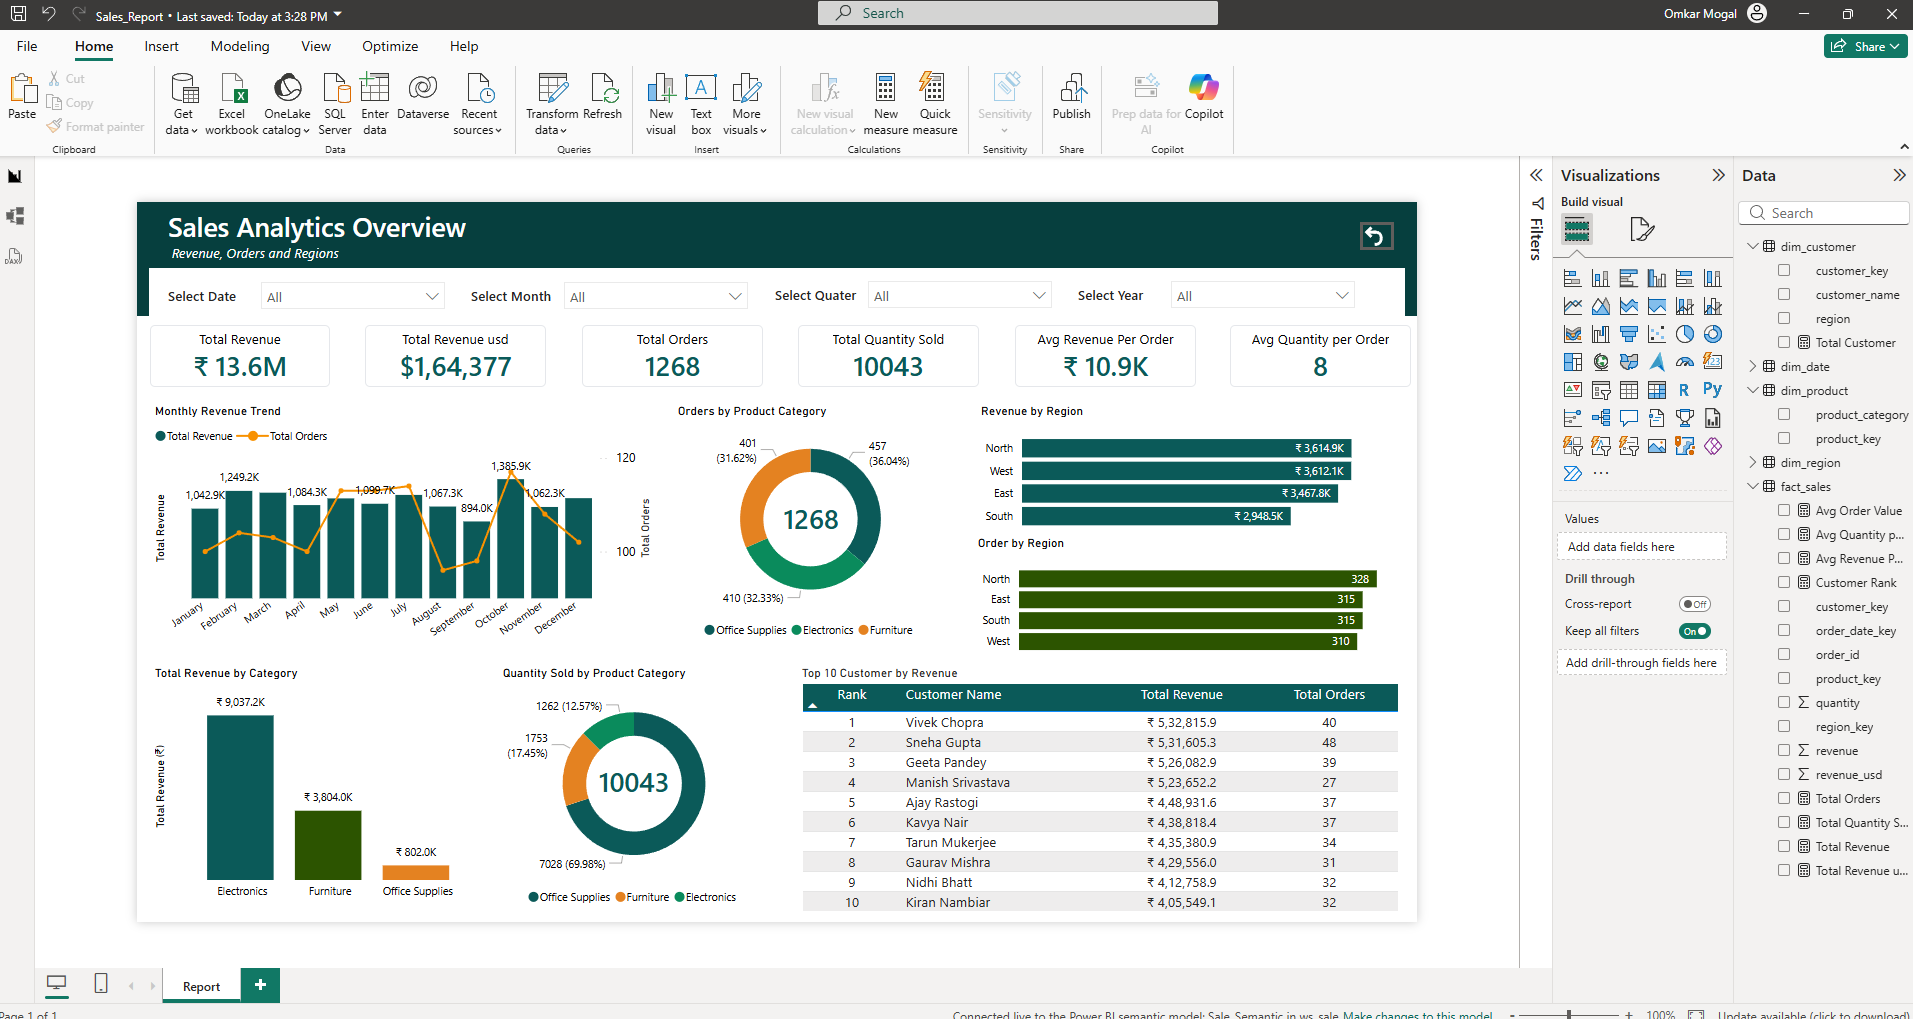

The page's visual inventory and layout, read from the dashboard file:
{"tool":"powerbi","page":{"name":"Report","canvas":[1280,720],"ordinal":0},"visuals":[{"type":"shape","box":[0,0,1280.3,66],"z":0},{"type":"slicer","fields":{"Values":["dim_date.quarter"]},"box":[725.7,74.1,194.4,39.1],"z":0,"group":"g3"},{"type":"slicer","fields":{"Values":["dim_date.year"]},"box":[1028.8,74.1,194.4,39.1],"z":0,"group":"g4"},{"type":"slicer","fields":{"Values":["dim_date.month_name"]},"box":[422.2,74.6,194.4,39.1],"z":0,"group":"g2"},{"type":"donutChart","title":"Quantity Sold  by Product Category","fields":{"Category":["dim_product.product_category"],"Y":["Sum(fact_sales.quantity)"]},"box":[360.9,463.9,272.2,249],"z":0,"group":"g6"},{"type":"textbox","box":[25.7,1.2,330.2,64.8],"z":1},{"type":"slicer","fields":{"Values":["dim_date.full_date"]},"box":[118.6,74.6,194.4,39.1],"z":2,"group":"g1"},{"type":"textbox","box":[25.7,79.5,92.9,28.1],"z":3,"group":"g1"},{"type":"group","id":"g1","title":"Group 1","box":[25.7,74.6,287.4,39.1],"z":4},{"type":"group","id":"g2","title":"Group 1","box":[329.3,74.6,287.4,39.1],"z":5},{"type":"group","id":"g3","title":"Group 1","box":[632.8,74.1,286.8,38.4],"z":6},{"type":"group","id":"g4","title":"Group 1","box":[935.9,74.1,286.8,38.4],"z":7},{"type":"shape","box":[0,56.3,12.2,57.5],"z":9},{"type":"shape","box":[1268.1,61.1,12.2,52.6],"z":10},{"type":"cardVisual","fields":{"Data":["fact_sales.Total Revenue"]},"box":[12.5,122.7,180.9,62.7],"z":11},{"type":"cardVisual","fields":{"Data":["fact_sales.Total Orders"]},"box":[445.1,122.7,180.9,62.7],"z":12},{"type":"cardVisual","fields":{"Data":["fact_sales.Total Quantity Sold"]},"box":[660.9,122.7,180.9,62.7],"z":13},{"type":"cardVisual","fields":{"Data":["fact_sales.Total Revenue usd"]},"box":[228.4,122.7,180.9,62.7],"z":14},{"type":"cardVisual","fields":{"Data":["fact_sales.Avg Revenue Per Order"]},"box":[877.6,122.7,180.9,62.7],"z":15},{"type":"cardVisual","fields":{"Data":["fact_sales.Avg Quantity per Order"]},"box":[1093.4,122.7,180.9,62.7],"z":16},{"type":"lineStackedColumnComboChart","title":"Monthly Revenue Trend ","fields":{"Category":["dim_date.month_name"],"Y":["fact_sales.Total Revenue"],"Y2":["fact_sales.Total Orders"]},"box":[12.5,202.4,506.9,244.5],"z":17},{"type":"donutChart","title":"Orders by Product Category","fields":{"Category":["dim_product.product_category"],"Y":["CountNonNull(fact_sales.order_id)"]},"box":[535.5,202.4,274.9,244.5],"z":18,"group":"g5"},{"type":"barChart","title":"Revenue by Region","fields":{"Category":["dim_region.region"],"Y":["Sum(fact_sales.revenue)"]},"box":[844.5,202.4,423.6,130.7],"z":19},{"type":"barChart","title":"Order by Region","fields":{"Category":["dim_region.region"],"Y":["CountNonNull(fact_sales.order_id)"]},"box":[841.3,333.6,424.1,123.5],"z":20},{"type":"cardVisual","fields":{"Data":["fact_sales.Total Orders"]},"box":[625.1,281.2,96.7,69.9],"z":21,"group":"g5"},{"type":"group","id":"g5","title":"Group 2","box":[535.5,202.4,274.9,244.5],"z":22},{"type":"columnChart","title":"Total Revenue by Category","fields":{"Category":["dim_product.product_category"],"Y":["Sum(fact_sales.revenue)"]},"box":[12.5,463.9,343,243.6],"z":23},{"type":"tableEx","title":"Top 10 Customer by Revenue","fields":{"Values":["fact_sales.Customer Rank","dim_customer.customer_name","fact_sales.Total Revenue","fact_sales.Total Orders"]},"box":[660,463.9,608.1,256.1],"z":24},{"type":"actionButton","box":[1223.3,19.7,34,28.7],"z":26},{"type":"cardVisual","fields":{"Data":["fact_sales.Total Quantity Sold"]},"box":[446,547.2,102.1,62.7],"z":27,"group":"g6"},{"type":"group","id":"g6","title":"Group 3","box":[360.9,463.9,272.2,249],"z":28},{"type":"textbox","box":[632.8,79,92.9,28.1],"z":1000,"group":"g3"},{"type":"textbox","box":[935.9,79,92.9,28.1],"z":1000,"group":"g4"},{"type":"textbox","box":[329.3,79.5,92.9,28.1],"z":1000,"group":"g2"}]}

Visuals, with their boxes on the page's 1280x720 design canvas (x1, y1, x2, y2). These are canvas units, not pixel positions in the 1913x1019 screenshot, which may show the page scaled, cropped or inside an application window:
shape: locate(0, 0, 1280, 66)
slicer - dim_date.quarter: locate(726, 74, 920, 113)
slicer - dim_date.year: locate(1029, 74, 1223, 113)
slicer - dim_date.month_name: locate(422, 75, 617, 114)
"Quantity Sold  by Product Category" donutChart: locate(361, 464, 633, 713)
textbox: locate(26, 1, 356, 66)
slicer - dim_date.full_date: locate(119, 75, 313, 114)
textbox: locate(26, 80, 119, 108)
"Group 1" group: locate(26, 75, 313, 114)
"Group 1" group: locate(329, 75, 617, 114)
"Group 1" group: locate(633, 74, 920, 112)
"Group 1" group: locate(936, 74, 1223, 112)
shape: locate(0, 56, 12, 114)
shape: locate(1268, 61, 1280, 114)
cardVisual - fact_sales.Total Revenue: locate(12, 123, 193, 185)
cardVisual - fact_sales.Total Orders: locate(445, 123, 626, 185)
cardVisual - fact_sales.Total Quantity Sold: locate(661, 123, 842, 185)
cardVisual - fact_sales.Total Revenue usd: locate(228, 123, 409, 185)
cardVisual - fact_sales.Avg Revenue Per Order: locate(878, 123, 1058, 185)
cardVisual - fact_sales.Avg Quantity per Order: locate(1093, 123, 1274, 185)
"Monthly Revenue Trend " lineStackedColumnComboChart: locate(12, 202, 519, 447)
"Orders by Product Category" donutChart: locate(536, 202, 810, 447)
"Revenue by Region" barChart: locate(844, 202, 1268, 333)
"Order by Region" barChart: locate(841, 334, 1265, 457)
cardVisual - fact_sales.Total Orders: locate(625, 281, 722, 351)
"Group 2" group: locate(536, 202, 810, 447)
"Total Revenue by Category" columnChart: locate(12, 464, 356, 708)
"Top 10 Customer by Revenue" tableEx: locate(660, 464, 1268, 720)
actionButton: locate(1223, 20, 1257, 48)
cardVisual - fact_sales.Total Quantity Sold: locate(446, 547, 548, 610)
"Group 3" group: locate(361, 464, 633, 713)
textbox: locate(633, 79, 726, 107)
textbox: locate(936, 79, 1029, 107)
textbox: locate(329, 80, 422, 108)
